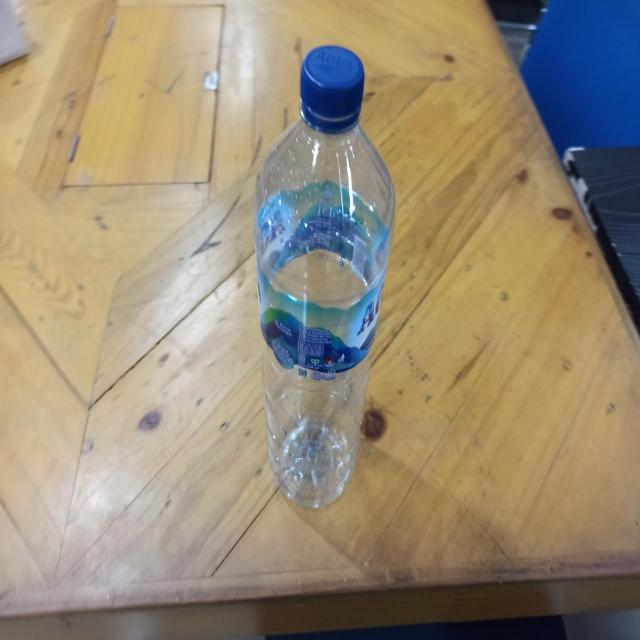BotolPlastik: (253, 44, 396, 509)
